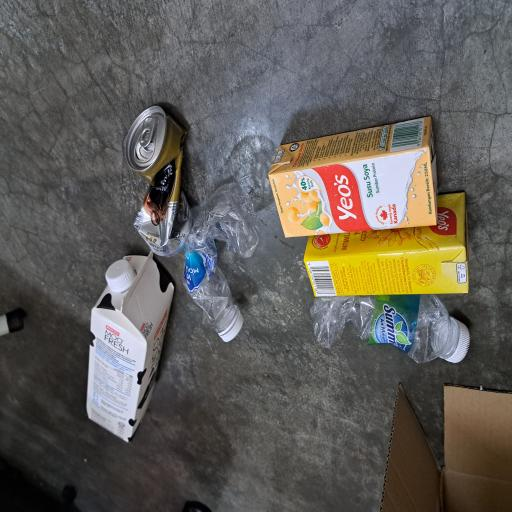can: (190, 166, 306, 258)
drink carton: (53, 114, 197, 233), (205, 357, 297, 512), (161, 403, 239, 512)
plastic bottle: (134, 242, 248, 348), (111, 413, 161, 512)
plastic bottle cap: (165, 140, 190, 179), (127, 294, 151, 325)
pop tab: (273, 186, 298, 206)
